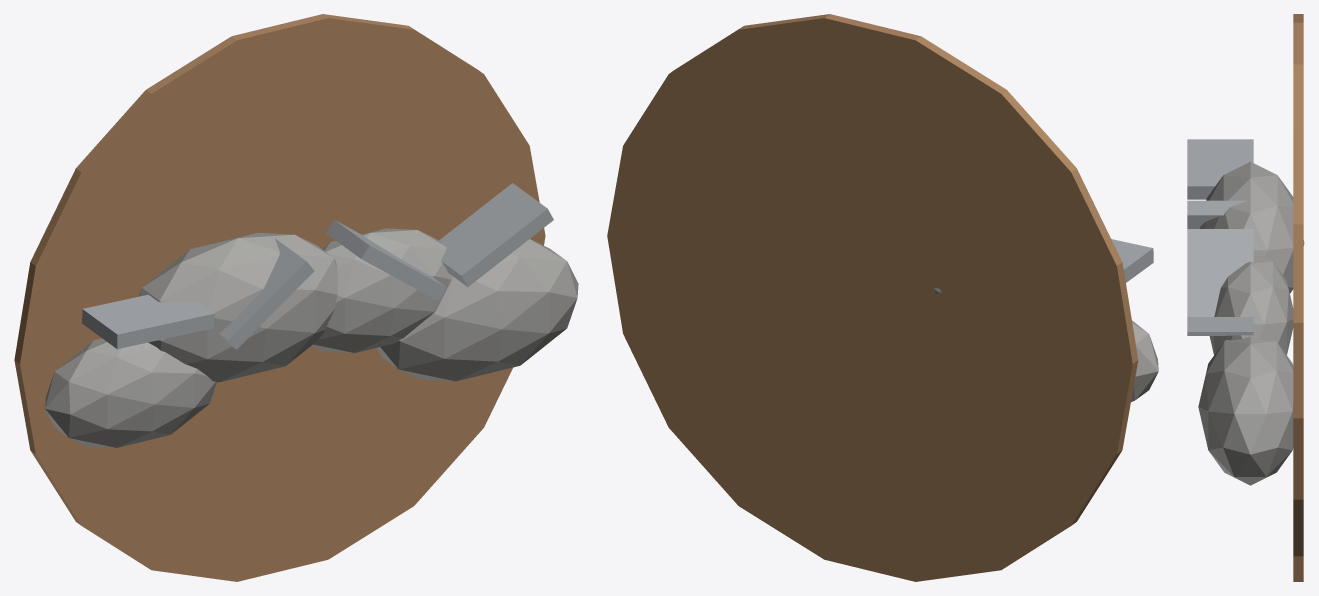
File: 02_display_prop_cluster.glb
3 views of the same model, side by side, from view 1: azimuth 30°, elevation 25°; view 2: azimuth 150°, elevation 25°; view 3: azimuth 270°, elevation 25° (orthographic). The views are drawn at different scales.
Visible parts, largest first — view 1: scatter_base, scrap_rock_1, scrap_rock_3, scrap_rock_0, scrap_rock_2, scrap_plate_3, scrap_plate_0, scrap_plate_1, scrap_plate_2; view 2: scatter_base, scrap_rock_0, scrap_plate_0; view 3: scrap_rock_3, scatter_base, scrap_rock_1, scrap_rock_2, scrap_plate_2, scrap_plate_0, scrap_plate_3, scrap_plate_1.
Boxes of the visible parts, left/top/right/bottom form: scatter_base: left=14, top=14, right=545, bottom=581; scrap_rock_1: left=139, top=232, right=337, bottom=382; scrap_rock_3: left=377, top=239, right=578, bottom=381; scrap_rock_0: left=45, top=338, right=216, bottom=447; scrap_rock_2: left=311, top=228, right=451, bottom=352; scrap_plate_3: left=438, top=183, right=553, bottom=286; scrap_plate_0: left=82, top=294, right=214, bottom=348; scrap_plate_1: left=219, top=238, right=314, bottom=349; scrap_plate_2: left=326, top=220, right=446, bottom=300; scatter_base: left=607, top=14, right=1138, bottom=581; scrap_rock_0: left=1131, top=320, right=1158, bottom=402; scrap_plate_0: left=1111, top=239, right=1153, bottom=282; scrap_rock_3: left=1198, top=336, right=1293, bottom=485; scatter_base: left=1293, top=14, right=1303, bottom=581; scrap_rock_1: left=1200, top=161, right=1304, bottom=293; scrap_rock_2: left=1209, top=252, right=1293, bottom=354; scrap_plate_2: left=1187, top=229, right=1253, bottom=316; scrap_plate_0: left=1187, top=139, right=1253, bottom=199; scrap_plate_3: left=1187, top=317, right=1253, bottom=335; scrap_plate_1: left=1187, top=200, right=1246, bottom=228.
Size of the model in its own units: 1.94 by 1.87 by 0.39.
